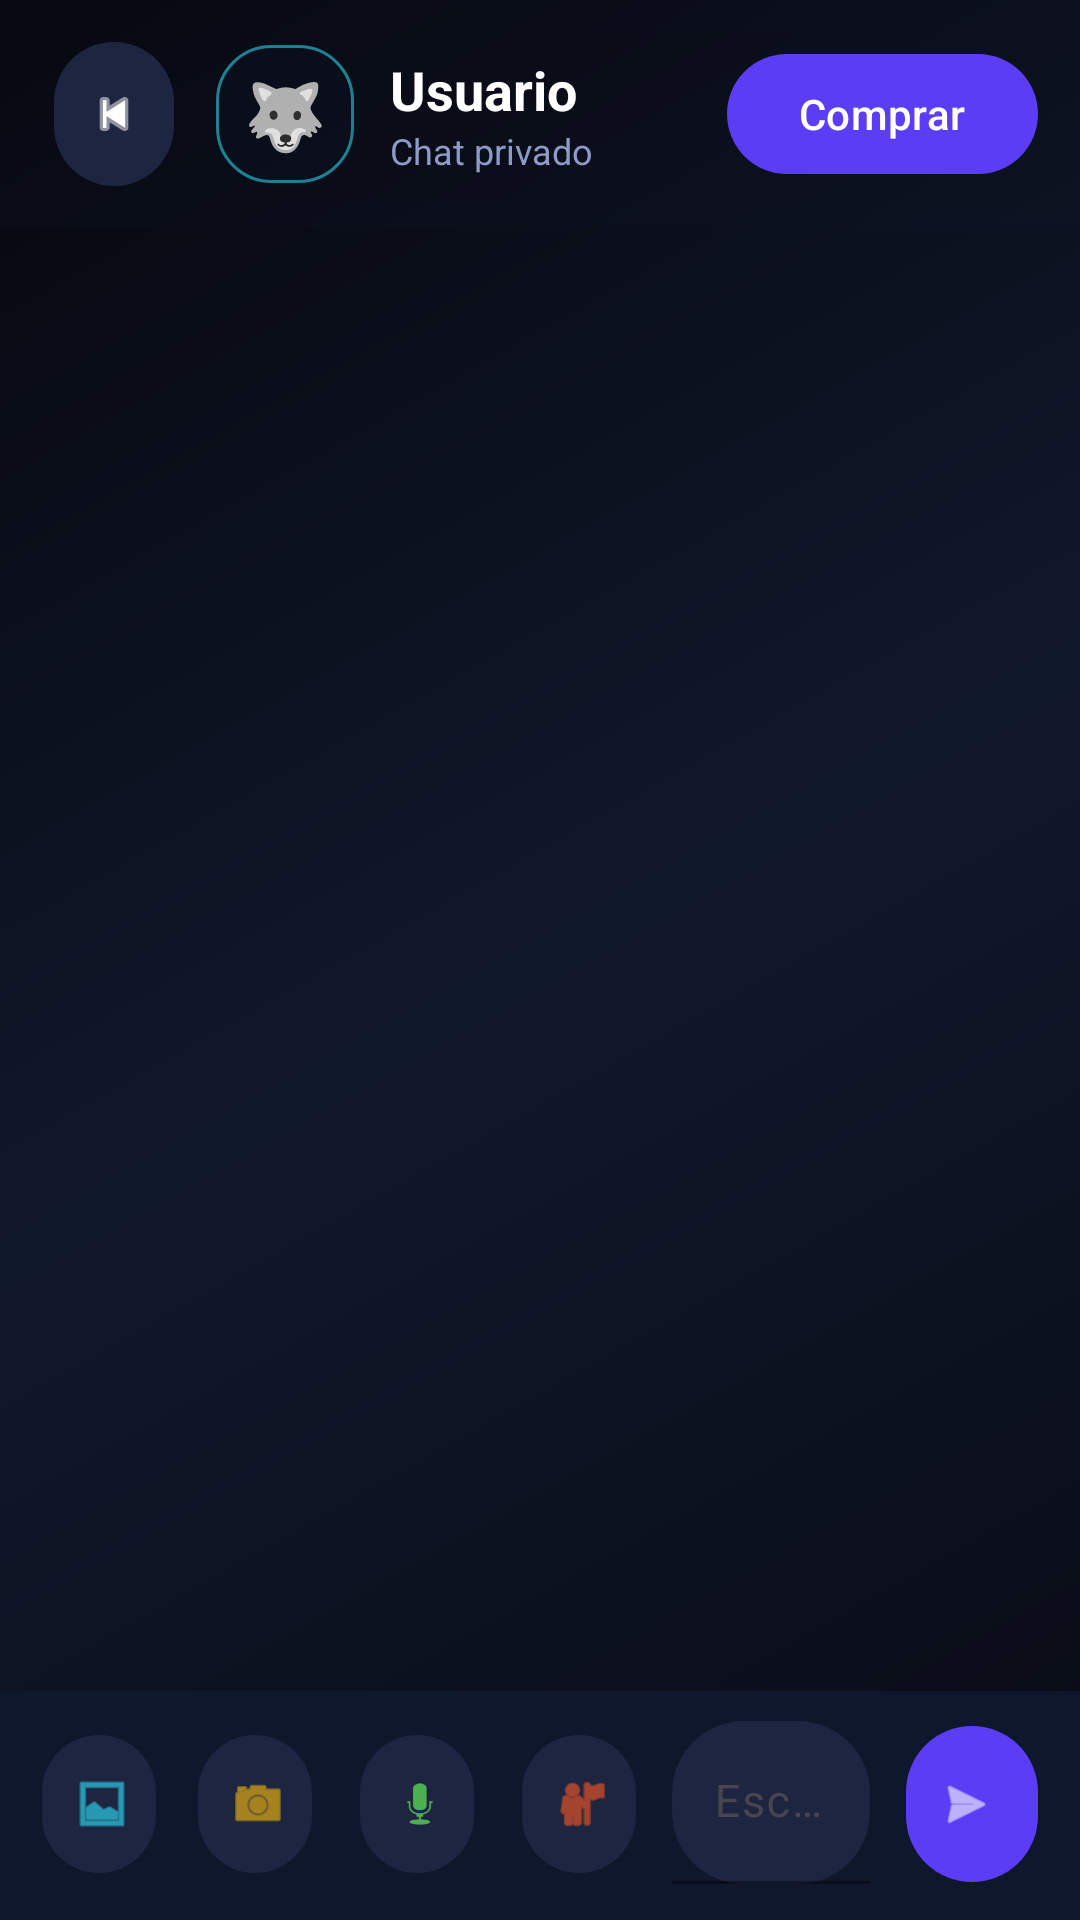

Screen size 1080px×1920px. Icon name, then its box in pixels as detection(x1, y1, x2, y2):
Audio: detection(407, 1783, 433, 1825)
Cámara: detection(235, 1784, 281, 1822)
Enviar: detection(906, 1726, 1038, 1882)
Galería: detection(79, 1781, 125, 1827)
Regresar: detection(54, 42, 174, 186)
